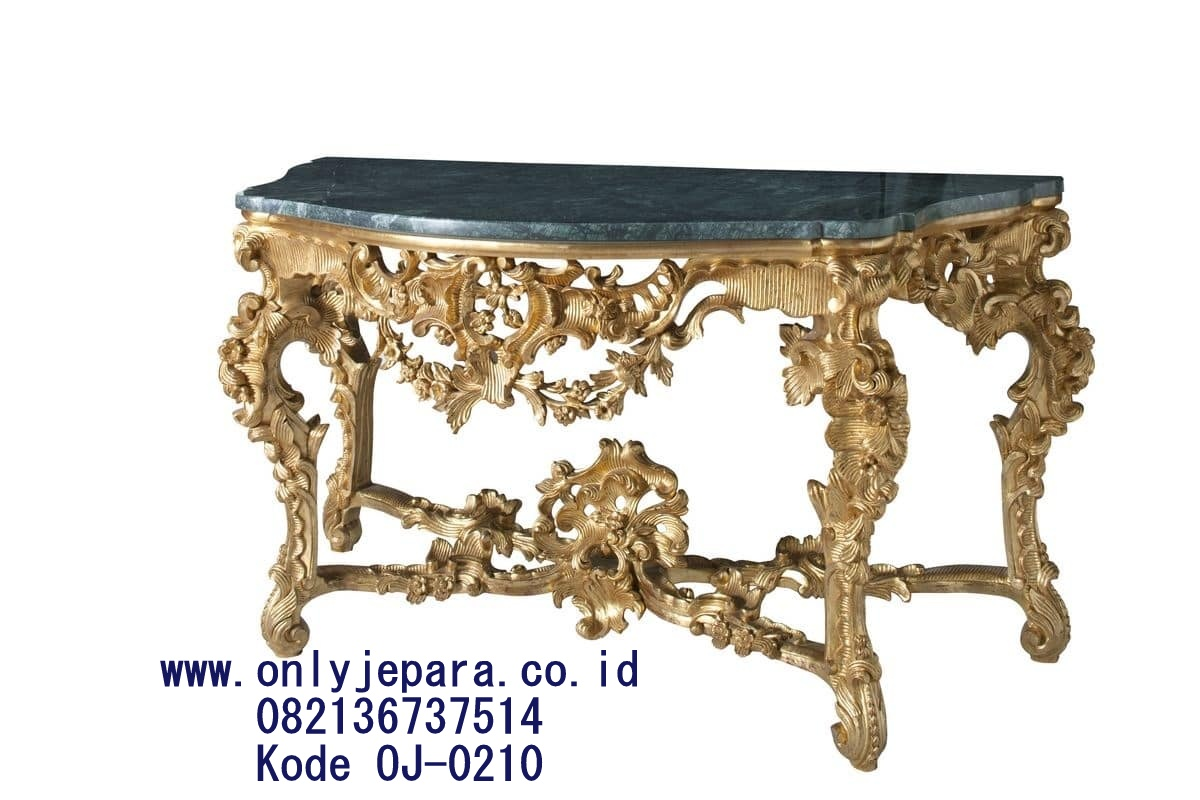Carving Table: (212, 108, 1114, 750)
